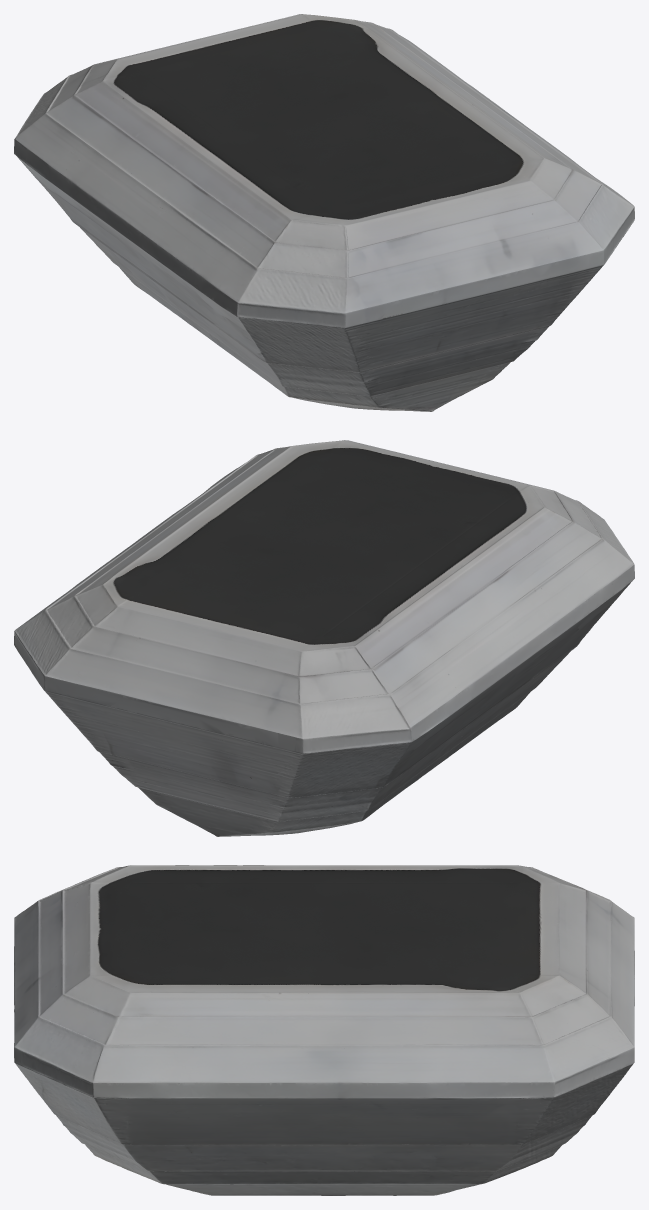
The model's file is gem-emerald.glb.
3 views of the same model, one above another, from view 1: azimuth 30°, elevation 25°; view 2: azimuth 150°, elevation 25°; view 3: azimuth 270°, elevation 25° (orthographic). The views are drawn at different scales.
Parts seen in each view (by area): view 1: model; view 2: model; view 3: model.
Part boxes in pixels (<box>): model: <box>14,14,634,411</box>; model: <box>14,440,634,836</box>; model: <box>14,865,634,1195</box>.
Bounding box in the file's own units: 1.46 × 0.7465 × 1.9.
1 material, 1 textured.
